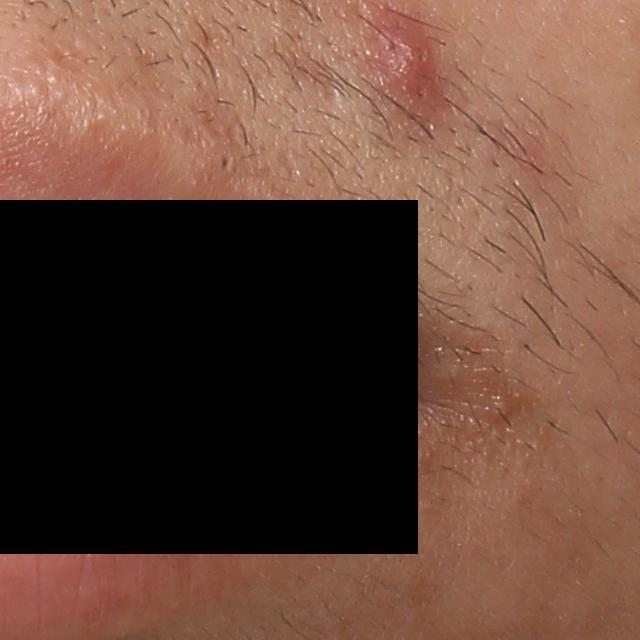papule: (367, 6, 442, 121)
